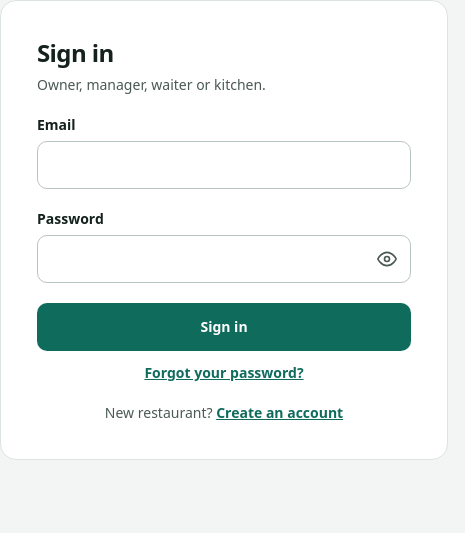
it: LoginForm › falls back to a generic message for an unexpected failure
The image size is (465, 533).
Type "marco@example.com" into the field labelled "Email" at [224, 165], box [37,141,411,189]
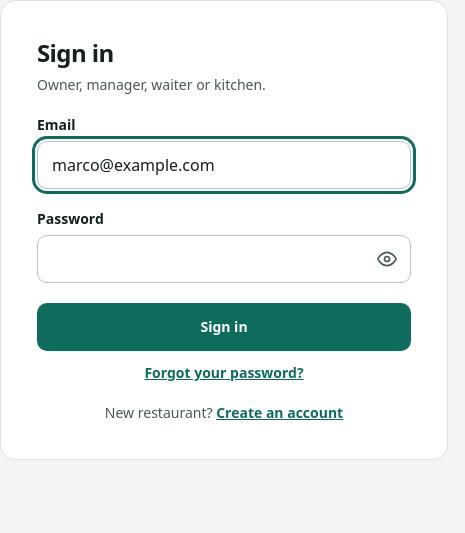
Type "whatever" into the password field labelled "Password" at [224, 259], box [37,235,411,283]
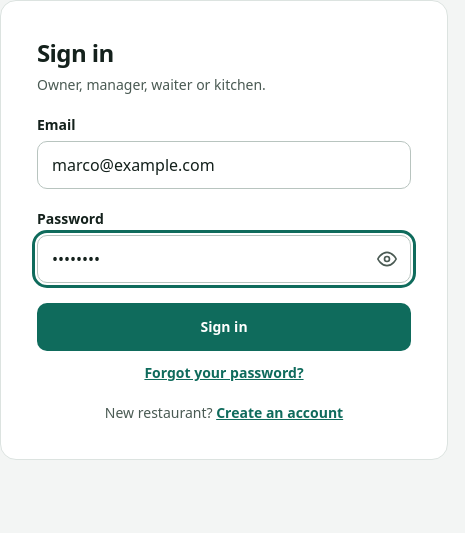
Click the button "Sign in" at [224, 327], box [37,303,411,351]
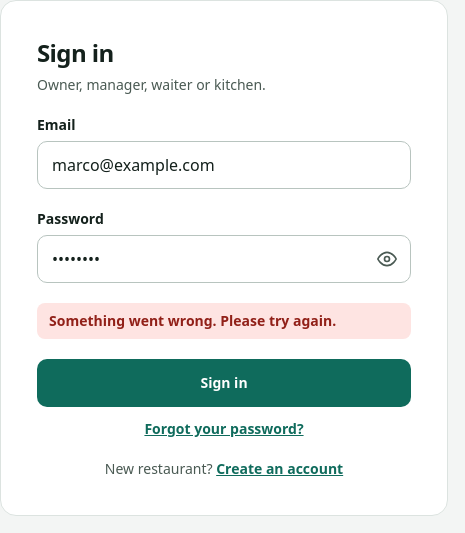
Now the message shows "Something went wrong", box [49,311,336,330]
